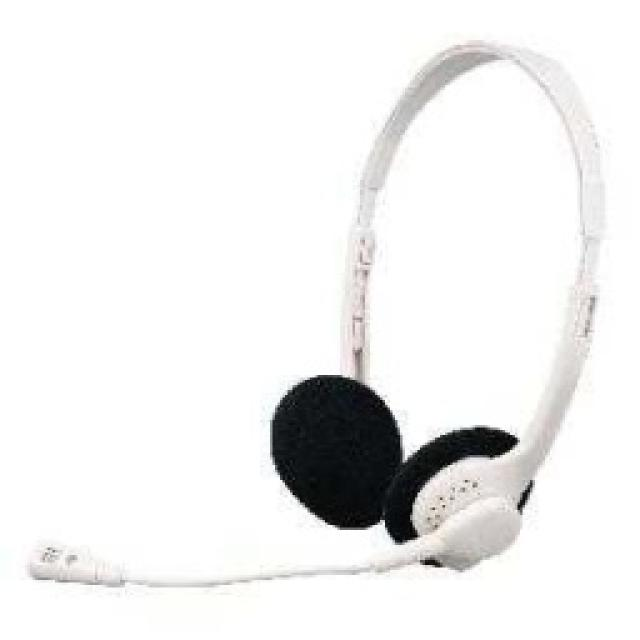kulaklik: (255, 30, 613, 592)
